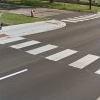crosswalk: (0, 36, 100, 74)
